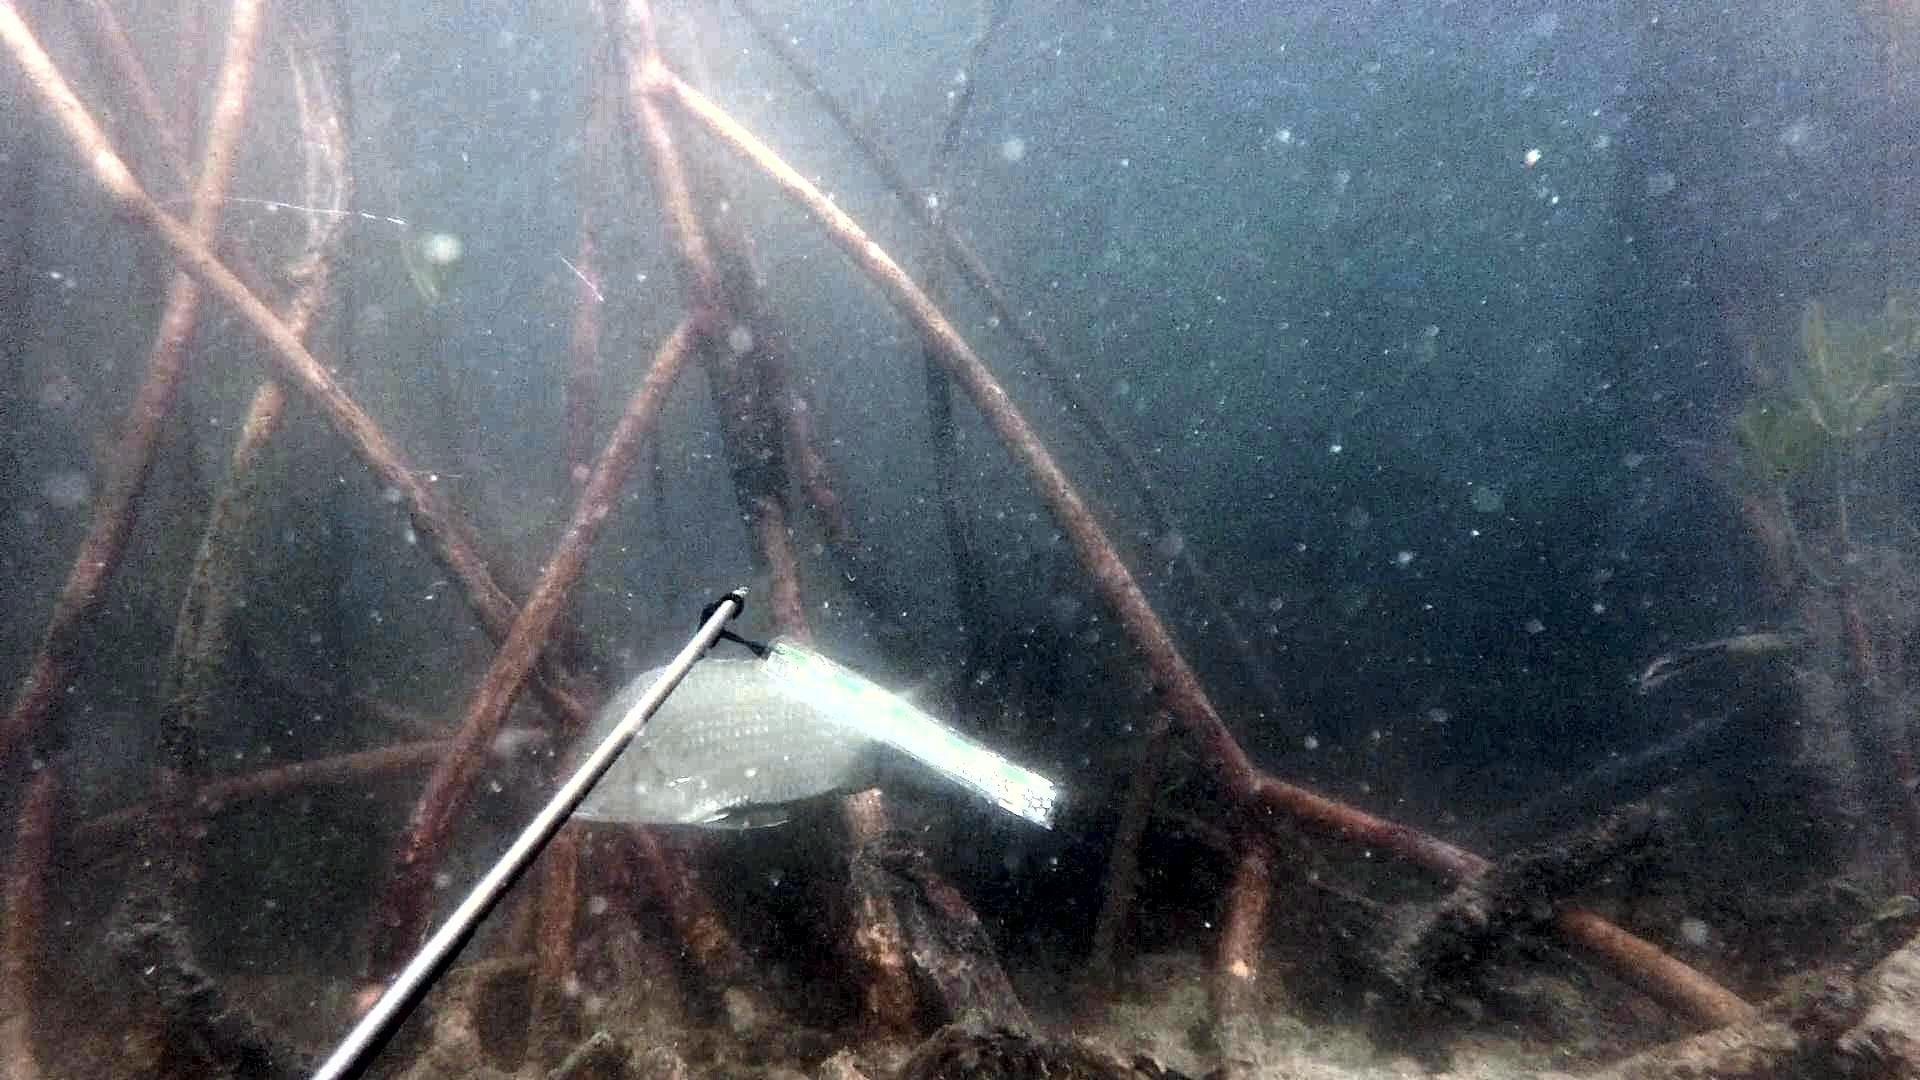acanthopagrus palmaris: (541, 646, 994, 844)
